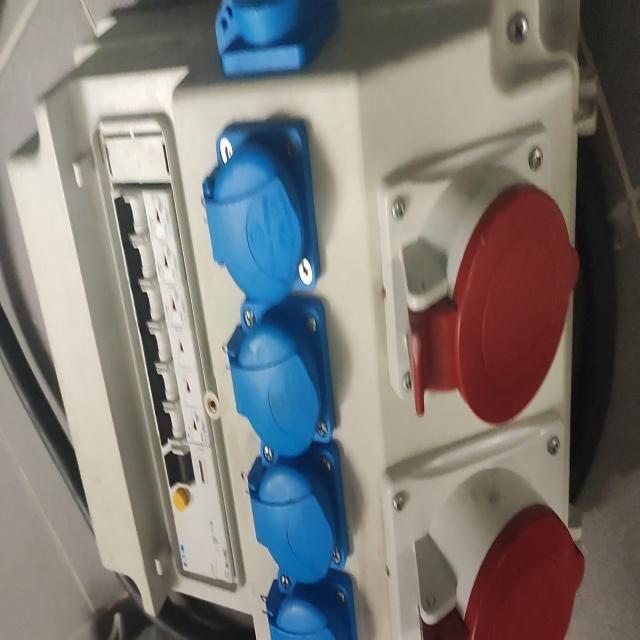400v socket: (376, 120, 574, 426), (379, 408, 584, 640)
house plug covered: (204, 119, 321, 301), (230, 298, 338, 454), (248, 438, 350, 586), (216, 3, 341, 80)
